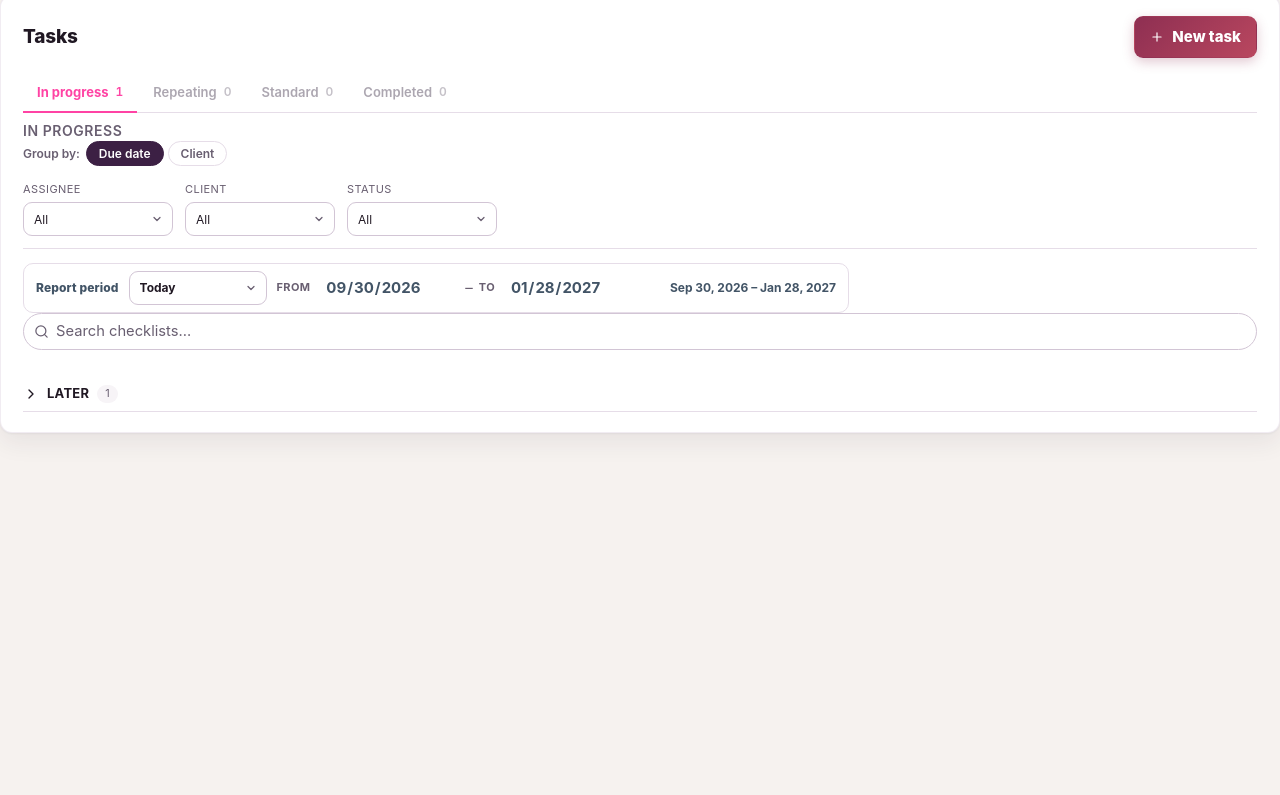
Test: delete controls on a step with an open wait (staff) › disables Delete on a sub-step whose sub-sub-step has an open wait, but not on the plain sub-sub-step
Click the button "Later 1": click(68, 393) [23, 376, 1257, 412]
(page scrolled)
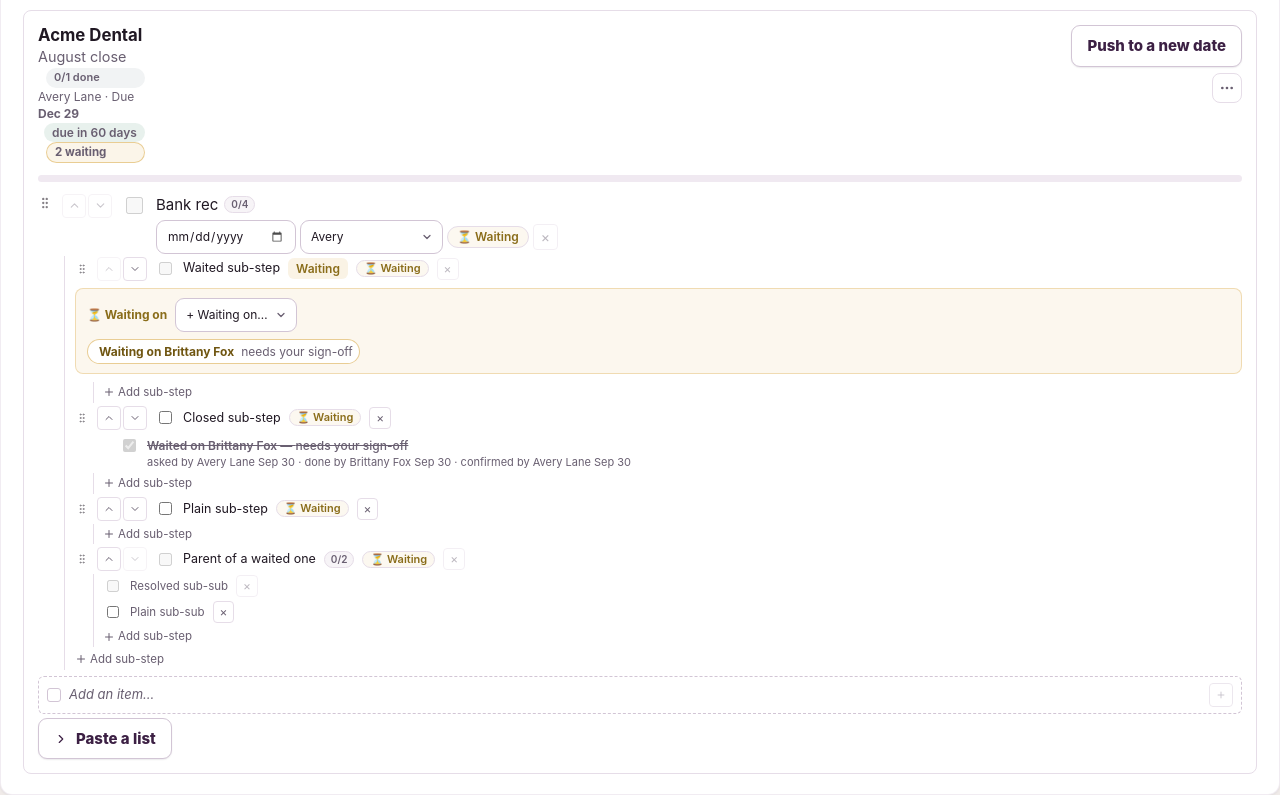
Expected: the button named "Delete sub-step" is disabled, [443, 548, 465, 570]
Expected: the button named "Delete sub-step" is enabled, [212, 601, 234, 623]
